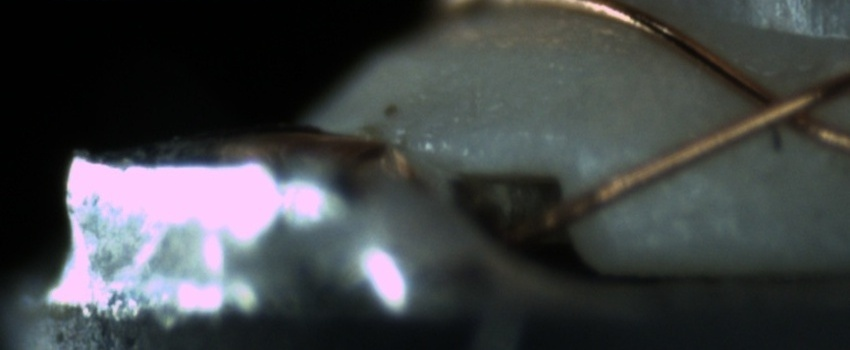CL: (728, 66, 830, 141)
